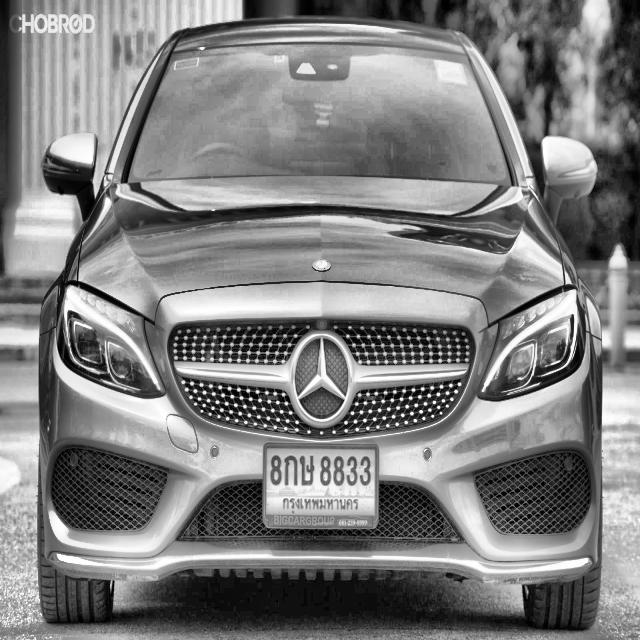license-plate: (262, 438, 381, 532)
